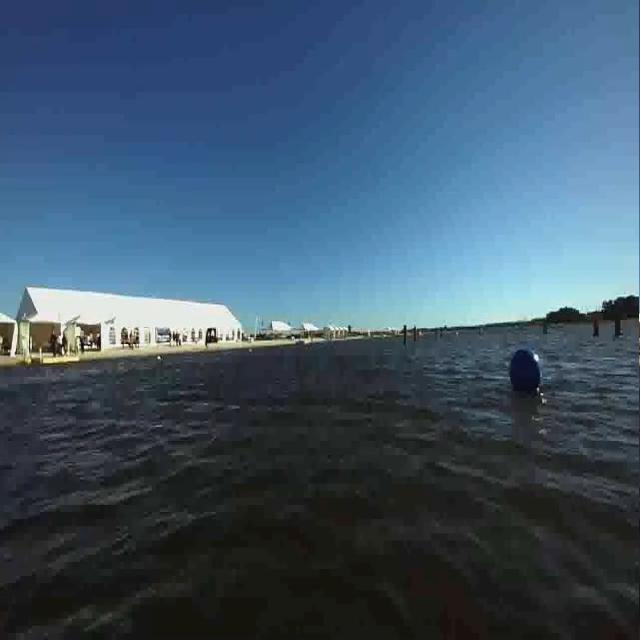blue-buoy: (508, 345, 542, 397)
green-column-buoy: (615, 306, 626, 337)
red-column-buoy: (592, 310, 602, 338)
